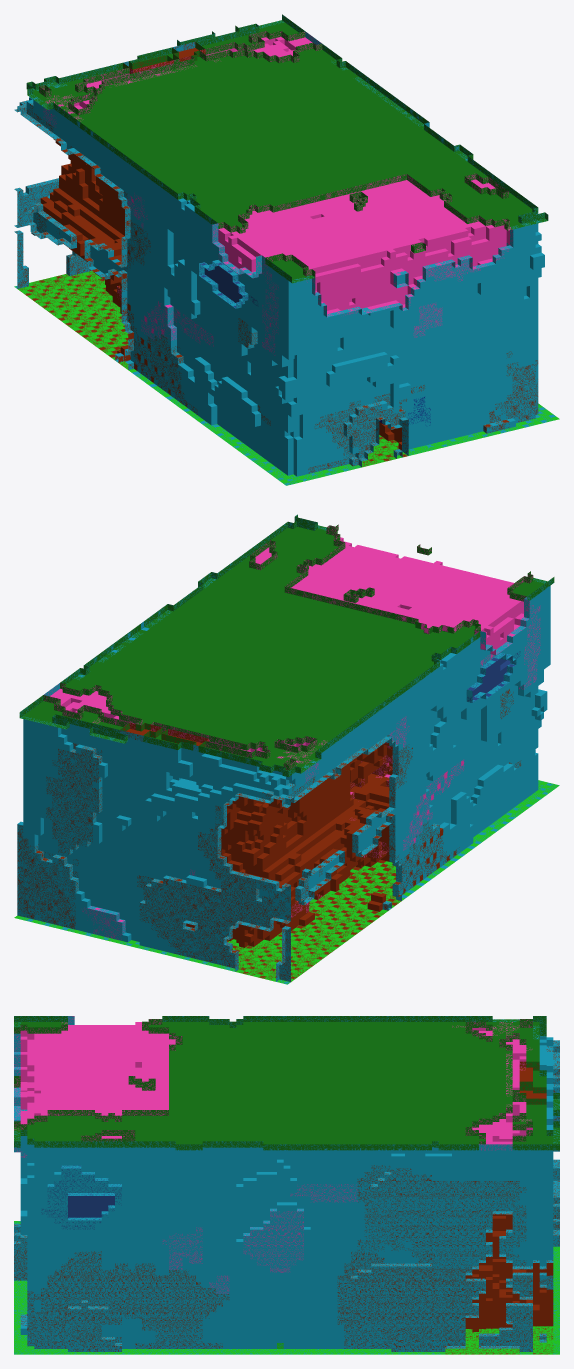
File: Kitchen_prediction.obj
3 renders of one model, top to bottom at view 1: azimuth 30°, elevation 25°; view 2: azimuth 150°, elevation 25°; view 3: azimuth 270°, elevation 25°, orthographic.
Visible parts, largest first — view 1: wall, ceiling, objects, furniture, floor, window; view 2: wall, ceiling, furniture, objects, floor, window; view 3: wall, ceiling, furniture, objects, floor, window.
Part boxes in pixels (x1=…): wall: x1=14, y1=15, x2=555, y2=485; ceiling: x1=26, y1=14, x2=548, y2=283; objects: x1=39, y1=31, x2=513, y2=355; furniture: x1=15, y1=42, x2=538, y2=473; floor: x1=14, y1=271, x2=559, y2=485; window: x1=199, y1=261, x2=258, y2=308; wall: x1=17, y1=515, x2=559, y2=984; ceiling: x1=19, y1=514, x2=554, y2=777; furniture: x1=17, y1=689, x2=520, y2=981; objects: x1=44, y1=525, x2=540, y2=939; floor: x1=14, y1=780, x2=559, y2=984; window: x1=467, y1=651, x2=520, y2=702; wall: x1=14, y1=1016, x2=559, y2=1354; ceiling: x1=14, y1=1016, x2=559, y2=1150; furniture: x1=14, y1=1040, x2=559, y2=1354; objects: x1=14, y1=1016, x2=532, y2=1293; floor: x1=14, y1=1221, x2=559, y2=1354; window: x1=41, y1=1165, x2=121, y2=1229.
Bounding box in the file's own units: 3.76 × 2.72 × 6.48.
